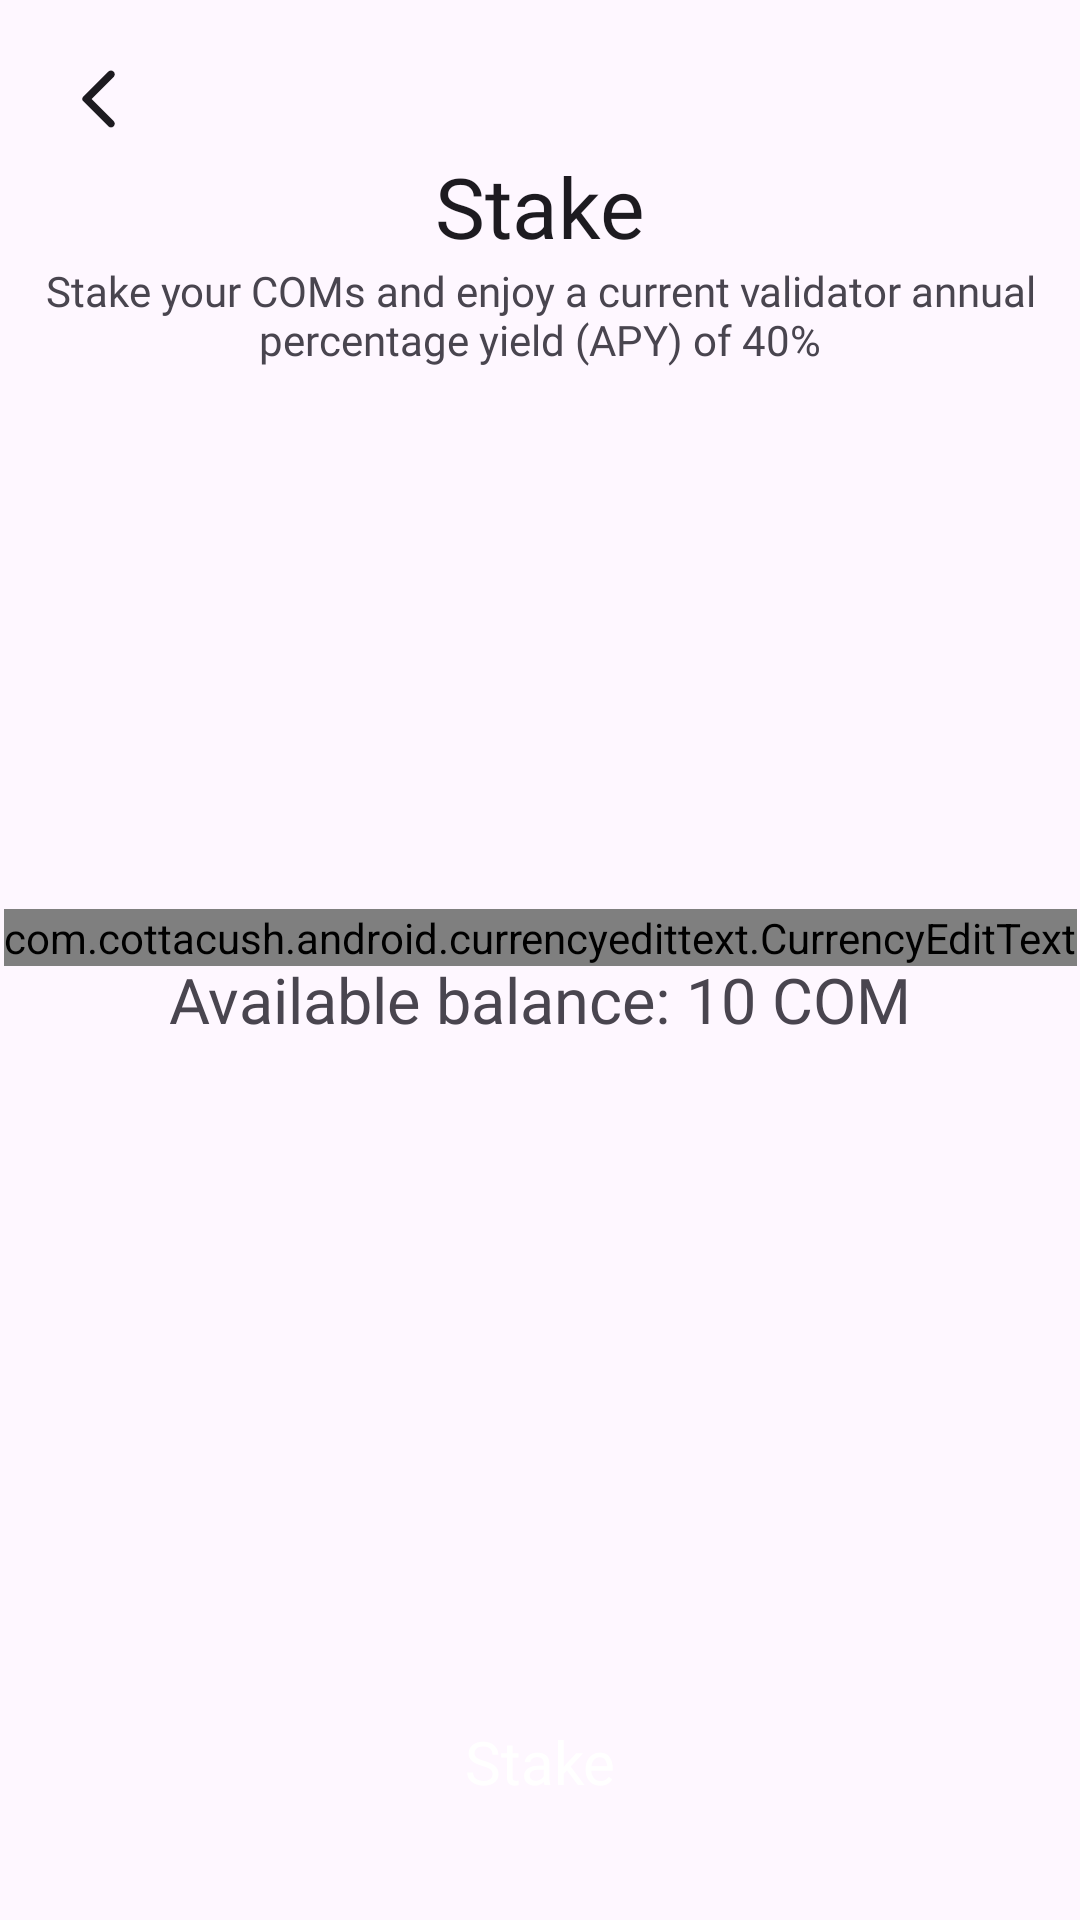

Where icons sit on this 1080x1920 app screen, as box(x1, y1, x2, y2):
arrow back: box(82, 70, 115, 128)
